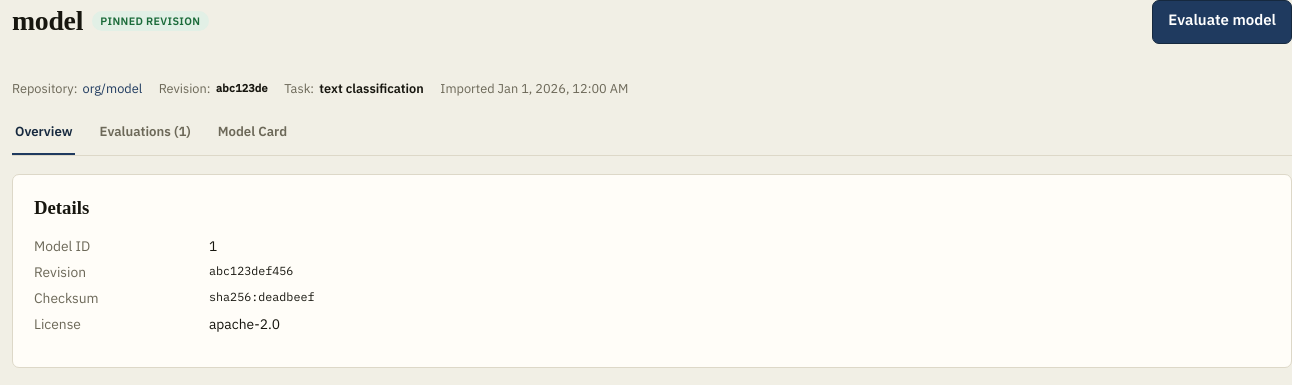
Test: history only lists this model, and says when it searched everything
Check: the text "Pinned revision" is shown, box x1=92 y1=11 x2=209 y2=31
Click the tab "Evaluations (1)".
click(145, 132)  # box x1=96 y1=110 x2=194 y2=154
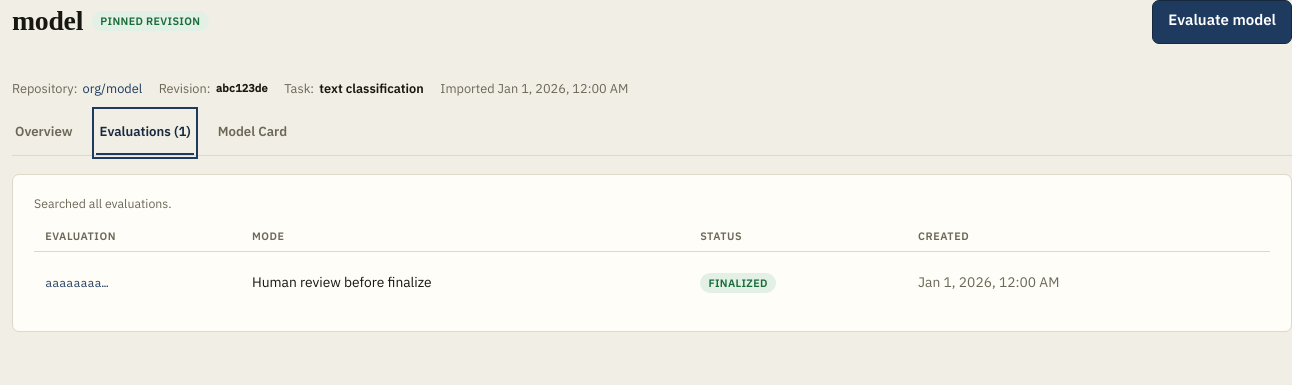
Check: the link named "Evaluation aaaaaaaa" is shown, box x1=45 y1=275 x2=109 y2=290
Check: the text "Searched all evaluations." is shown, box x1=34 y1=195 x2=172 y2=211
